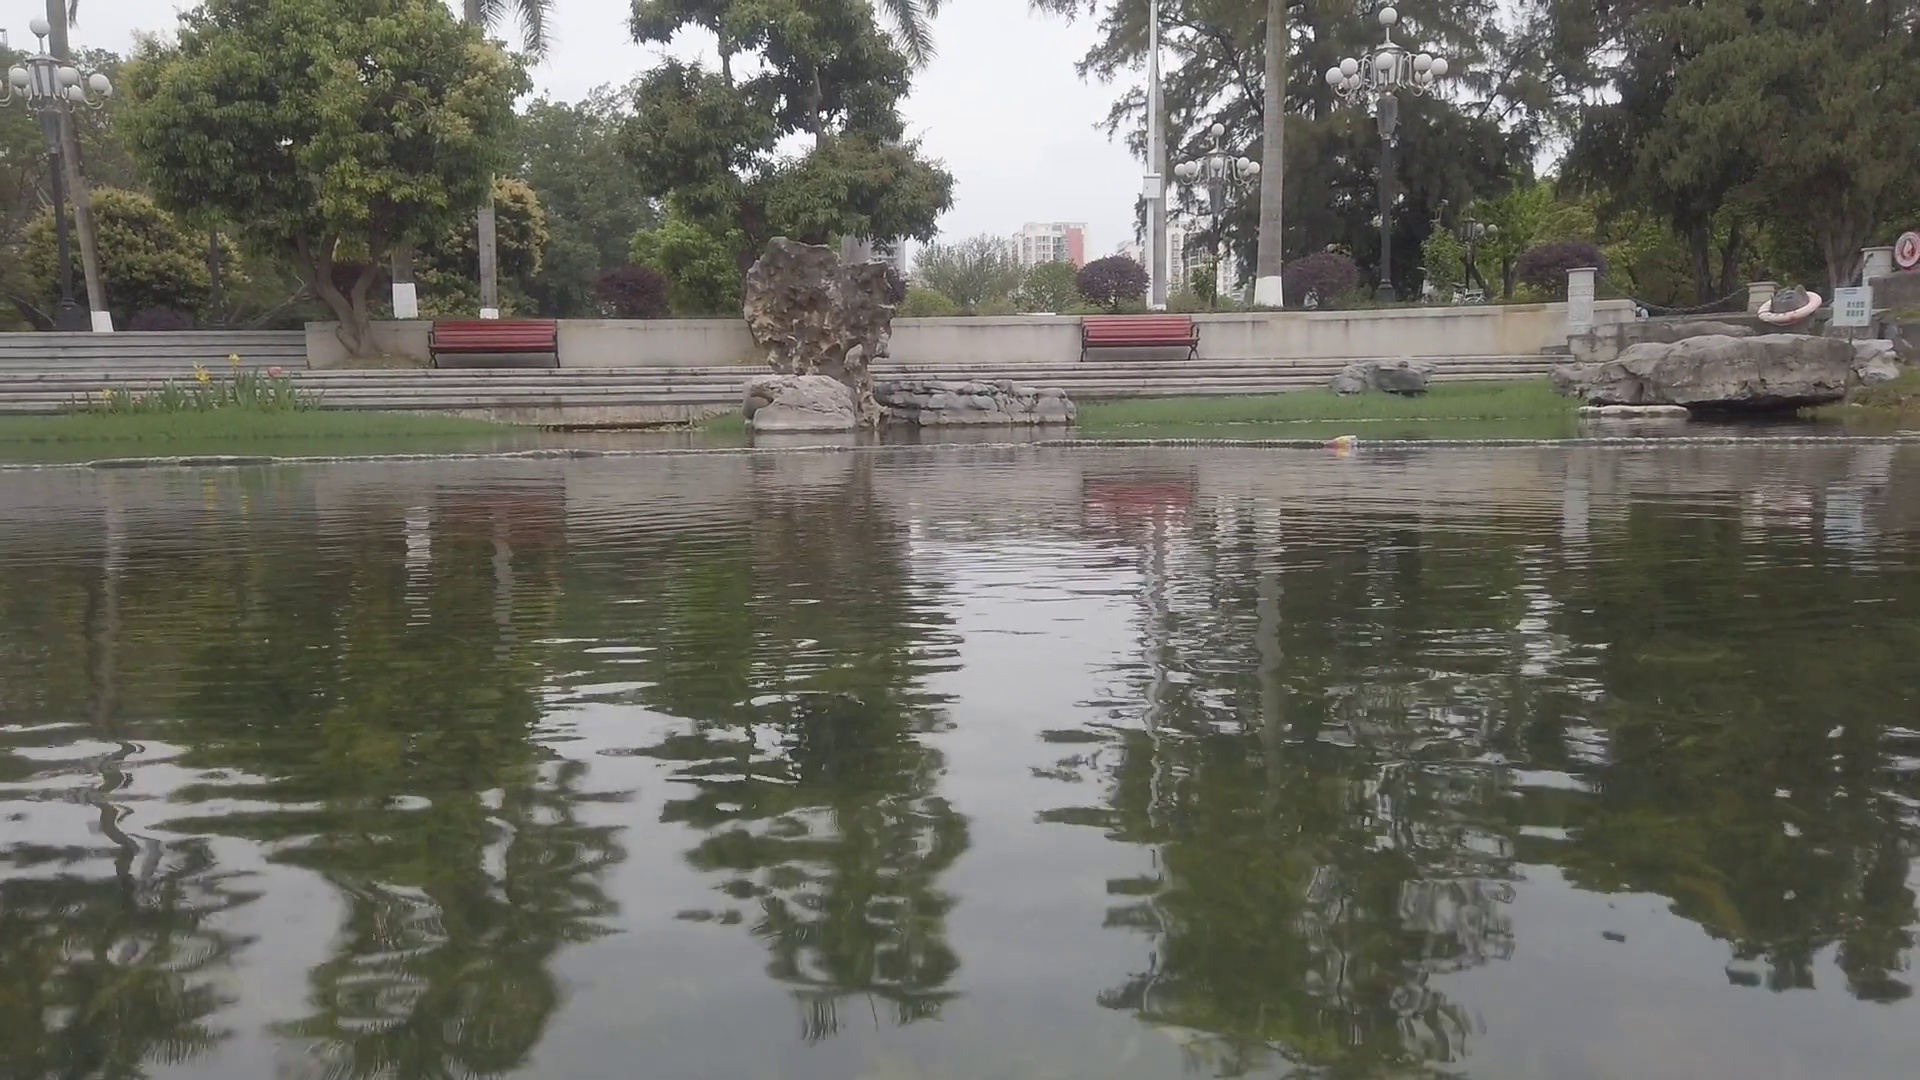bottle: (1319, 436, 1357, 450)
